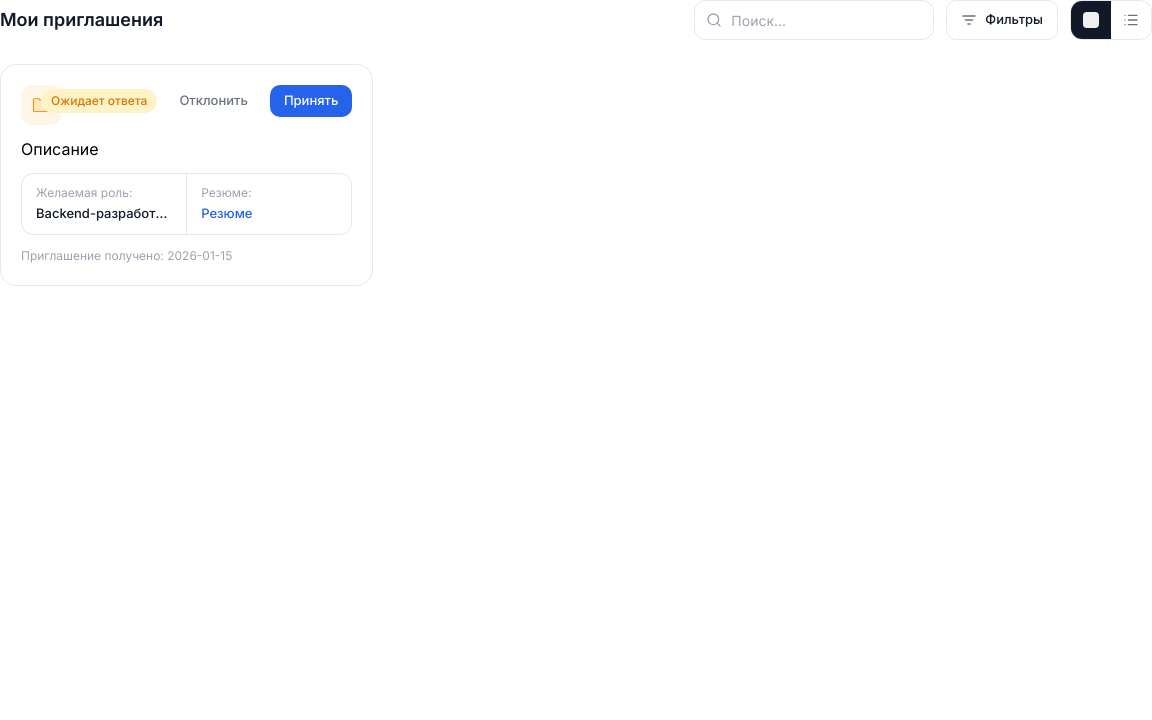
InvitationsSection: принятие приглашения › не открывает диалог повторно и закрывает его после успешного ответа
Click the button "Принять". click: (311, 101)
box: [270,85,352,117]
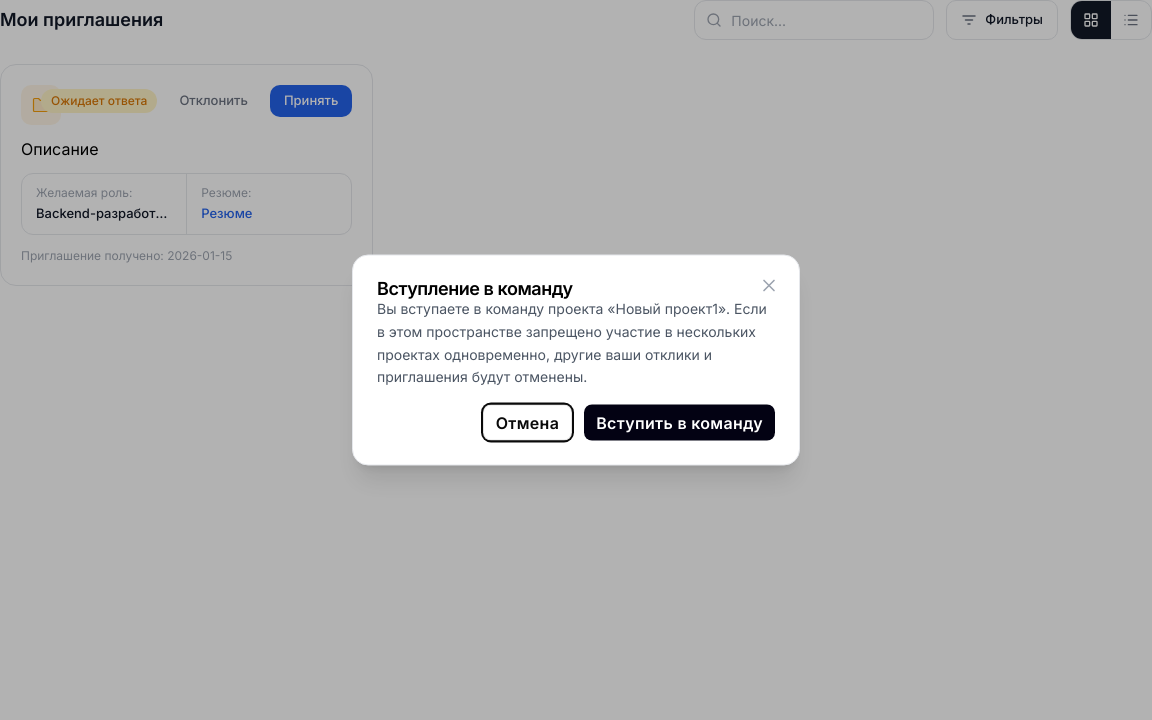
Click the button "Вступить в команду". click: (680, 422)
box: [584,404,775,440]
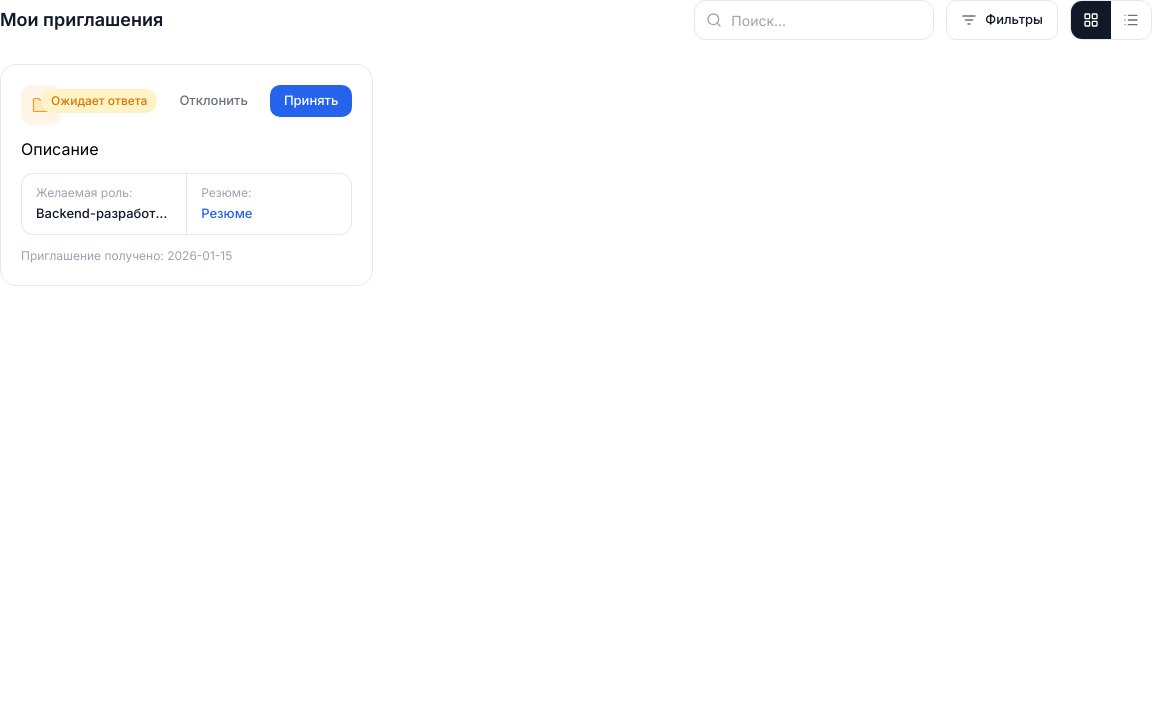
Result: the text "Вступление в команду" is gone
